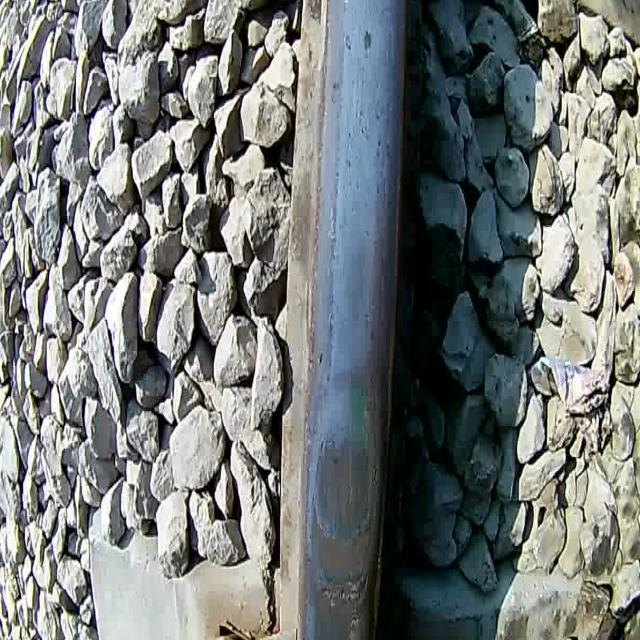Squats: (296, 410, 389, 640)
